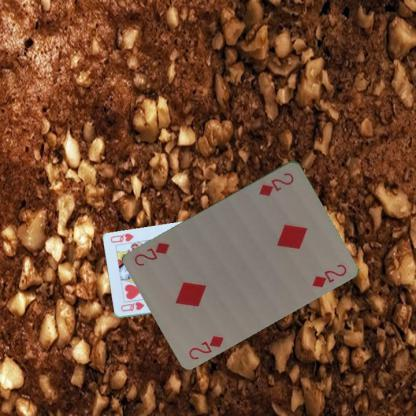2d: (186, 332, 225, 361), (256, 170, 296, 198)
Qh: (118, 299, 146, 313)
